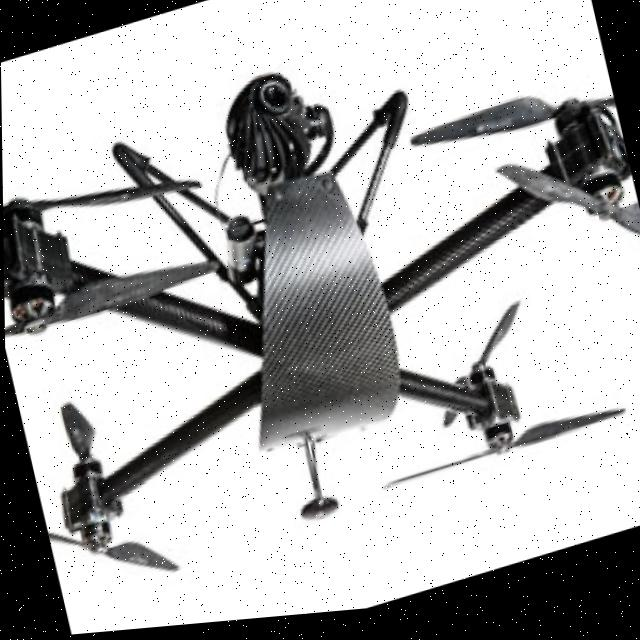drones: (0, 0, 640, 618)
